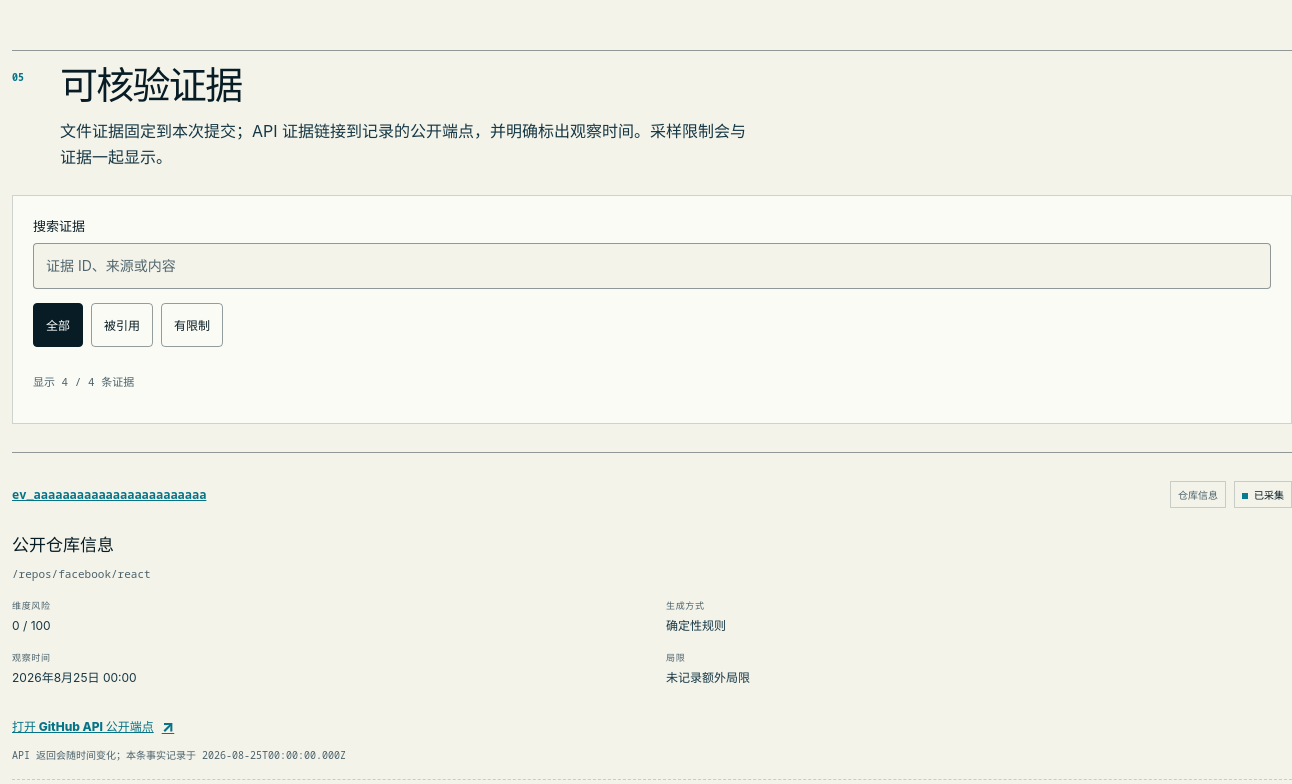
Test case: Evidence explorer › filters limitations and localizes owned labels while safely preserving original text
Click the button "有限制": (192, 325) [161,303,223,347]
(page scrolled)
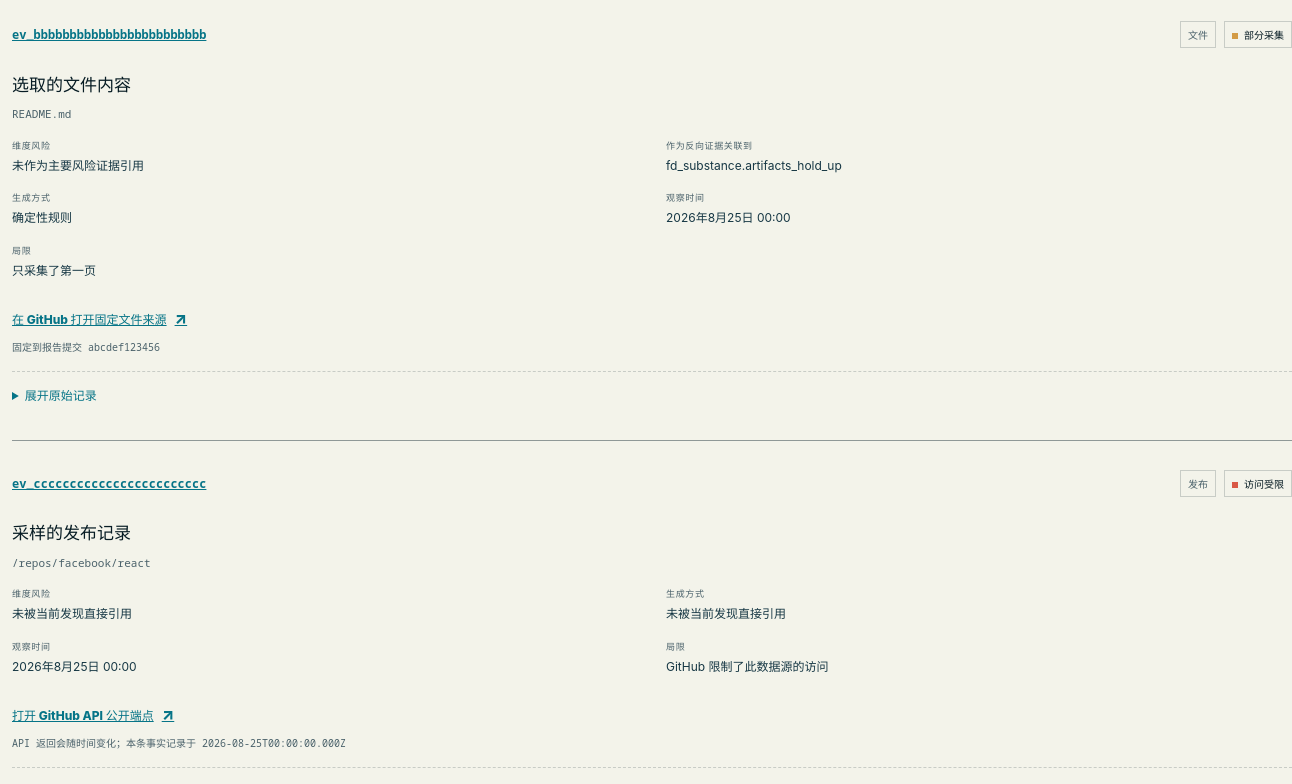
Expected: the text "只采集了第一页" is shown, [12,263,96,278]
Expected: the text "GitHub 限制了此数据源的访问" is shown, [666,659,828,674]
Click the heading "展开原始记录" below "选取的文件内容": (61, 395) [25,388,97,403]
(page scrolled)
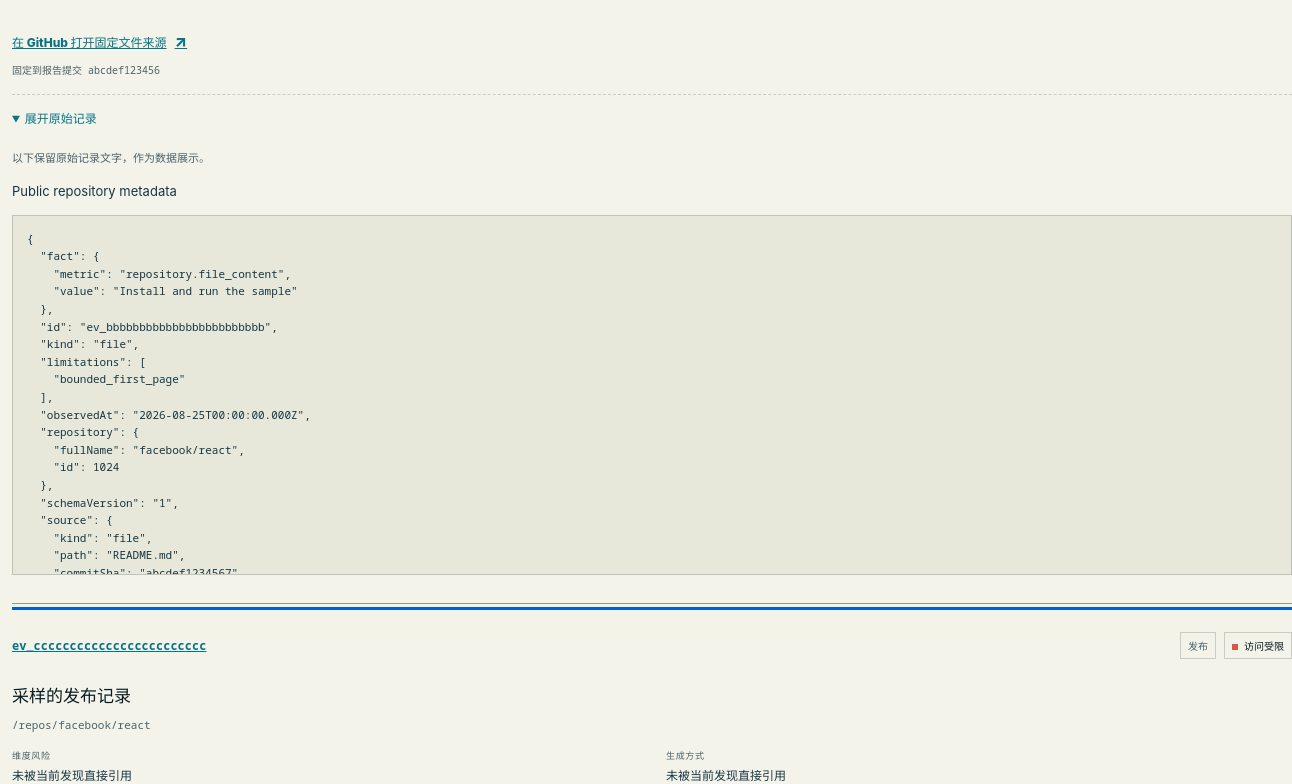
Now the element named "原始公开观察" shows "bounded_first_page", box [27,231,311,668]
